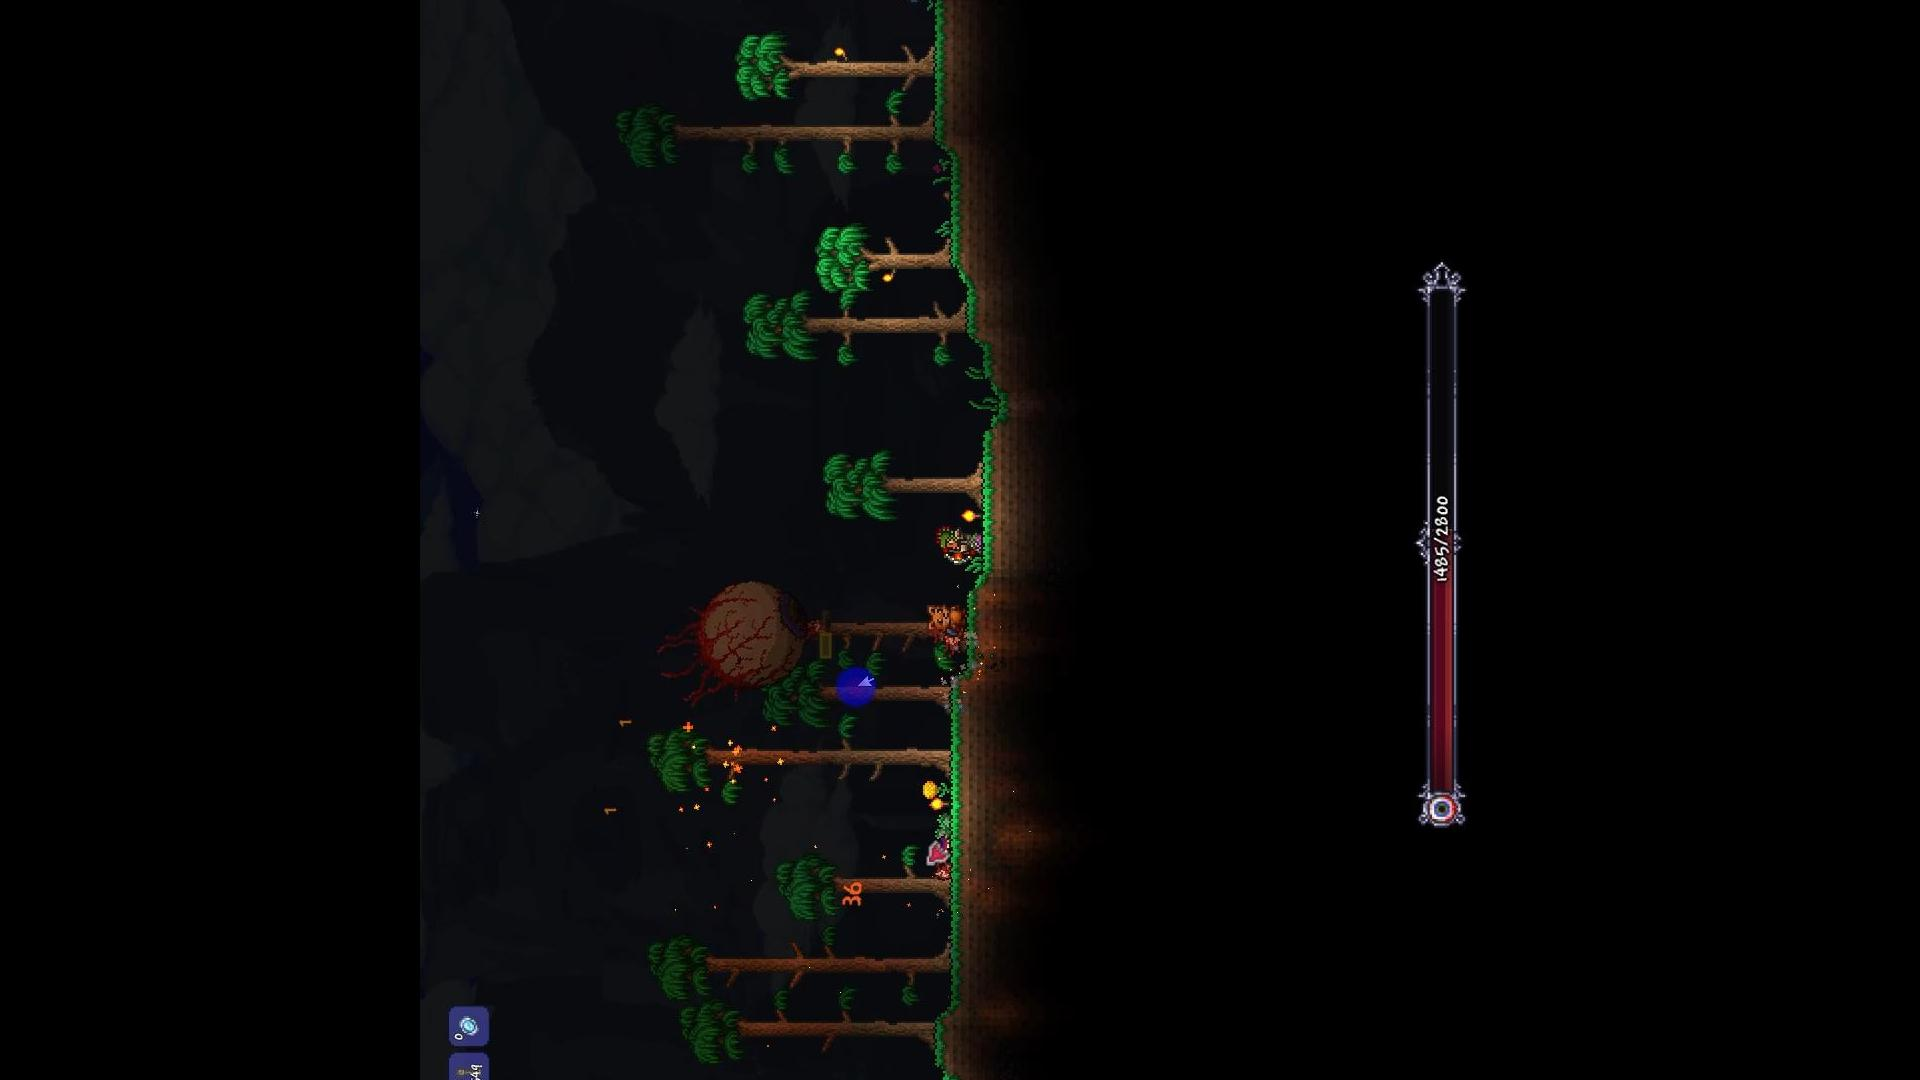dirt: (943, 673, 996, 990), (947, 164, 998, 339), (977, 435, 1005, 575)
